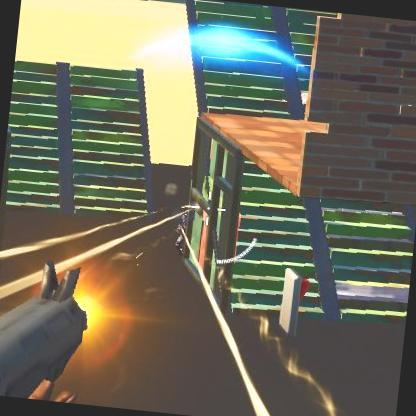person: (174, 208, 191, 250)
